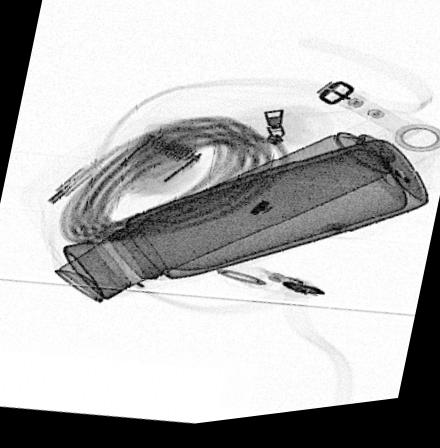Sprayer: (51, 141, 391, 306)
